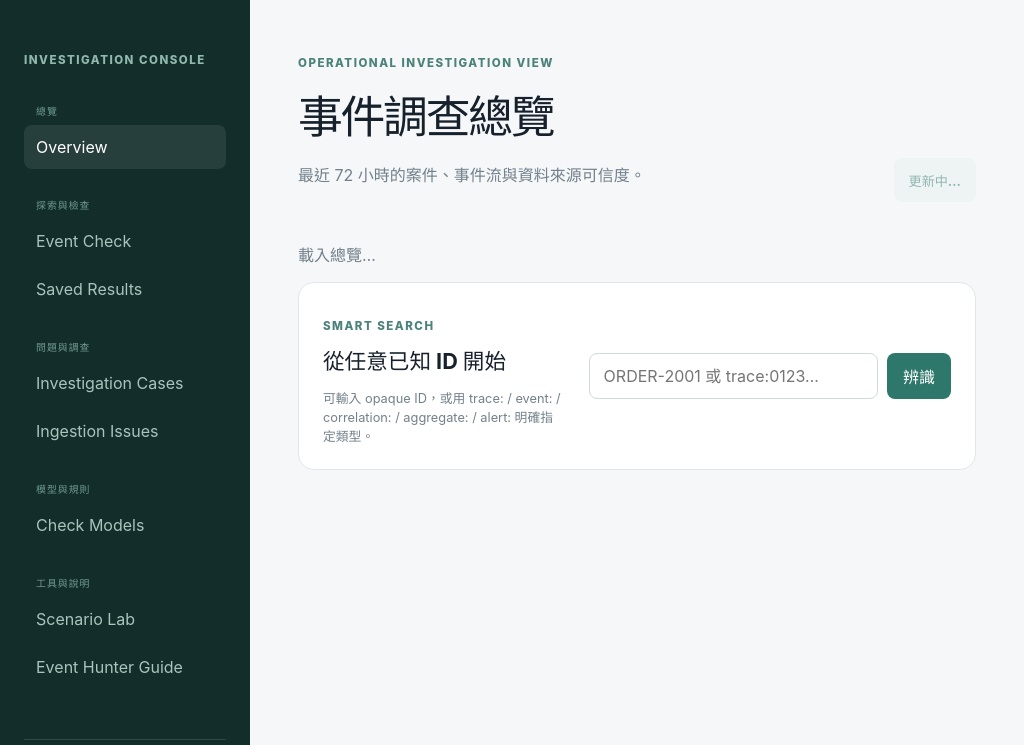
Test case: DashboardPage › returns identifier candidates before running any event query
(page scrolled)
Type "ORDER-2001" into the field with test id "smart-search-input" at (733, 376), box 589,353 -> 878,399
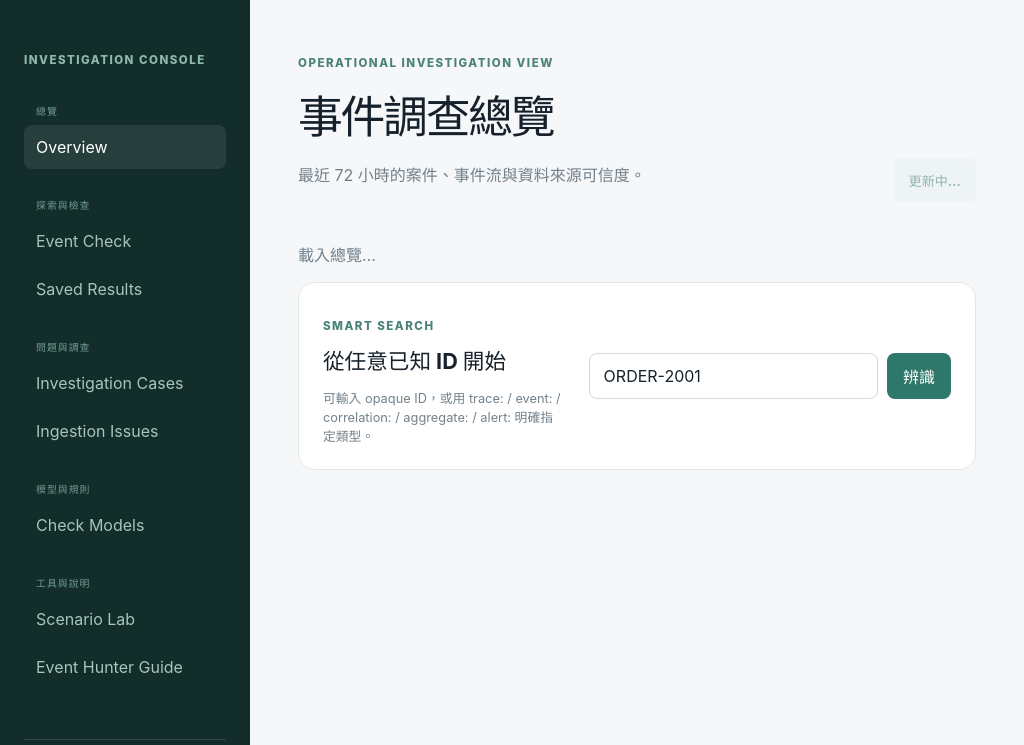
Click the button with test id "smart-search-identify" at (919, 376), box 887,353 -> 951,399
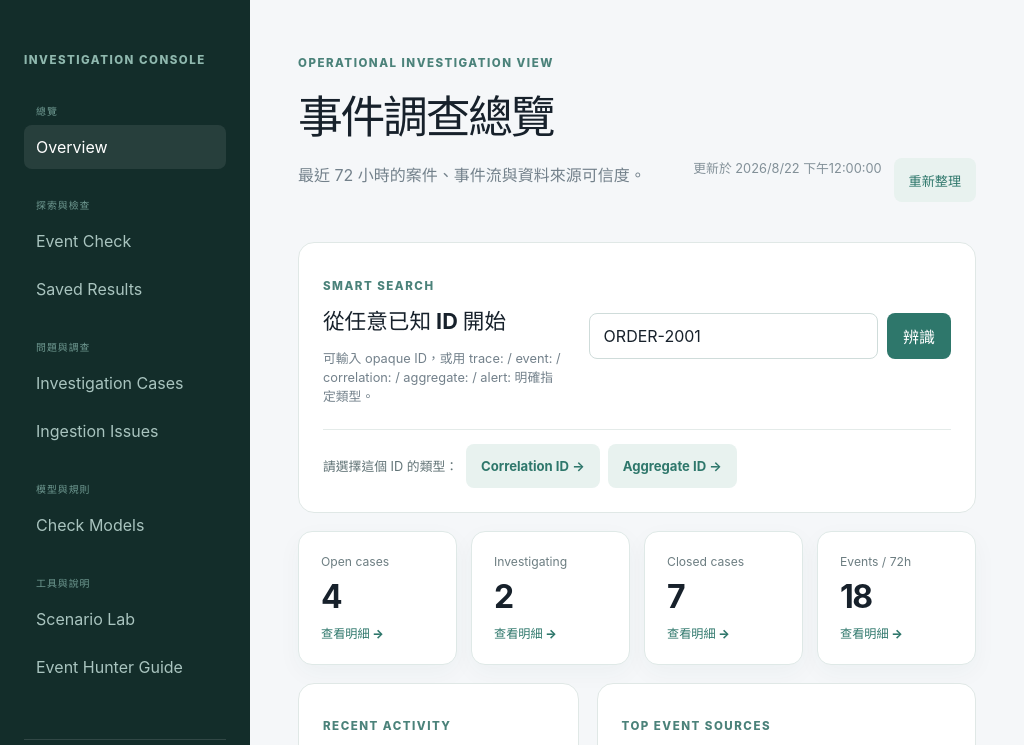
Now the button with test id "smart-search-candidate-correlation_id" shows "Correlation ID", box 466,444 -> 600,488
